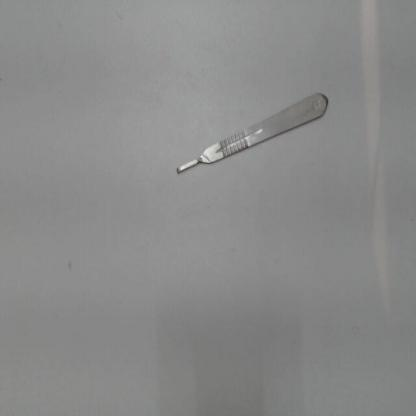No.3 BP Handle: (168, 76, 336, 186)
